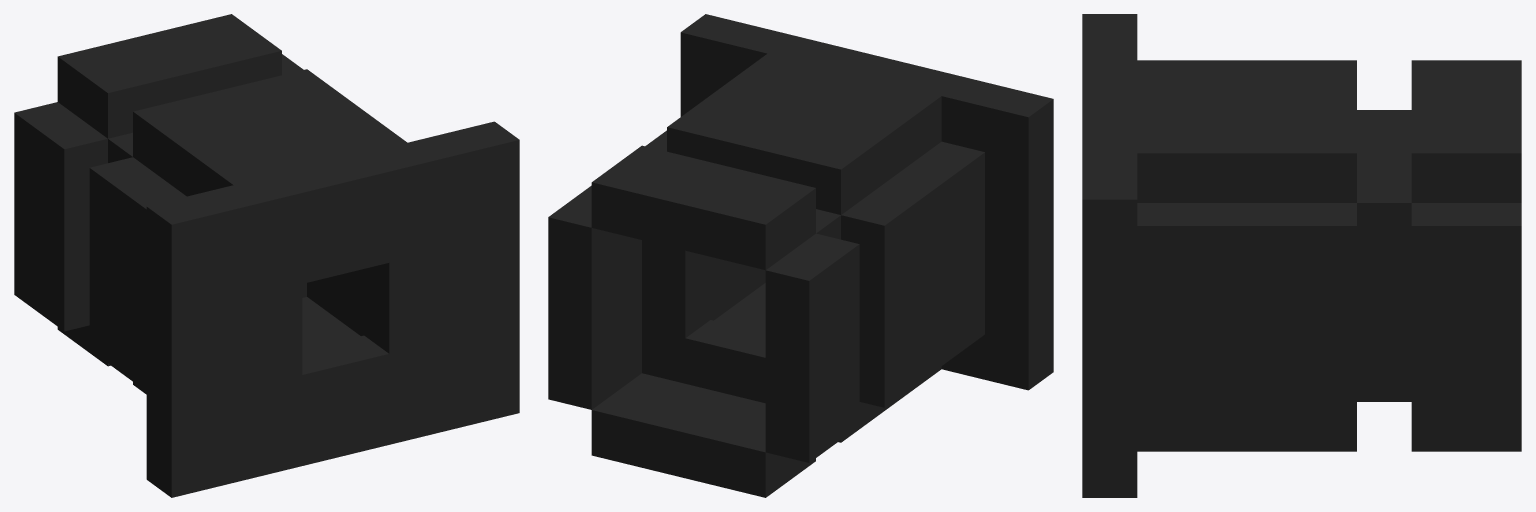
The model's file is Extra-8-UVintruder_Thruster.obj.
3 renders of one model, left to right at view 1: azimuth 30°, elevation 25°; view 2: azimuth 150°, elevation 25°; view 3: azimuth 270°, elevation 25°, orthographic. The views are drawn at different scales.
Visible parts, largest first — view 1: UVintruder_Thruster; view 2: UVintruder_Thruster; view 3: UVintruder_Thruster.
Part boxes in pixels (x1,y1,x2,y2): UVintruder_Thruster: [14, 14, 519, 497]; UVintruder_Thruster: [548, 14, 1053, 497]; UVintruder_Thruster: [1082, 14, 1521, 497].
Bounding box in the file's own units: 0.8 × 0.6 × 0.8.
Materials: 1 (1 with a texture image).
